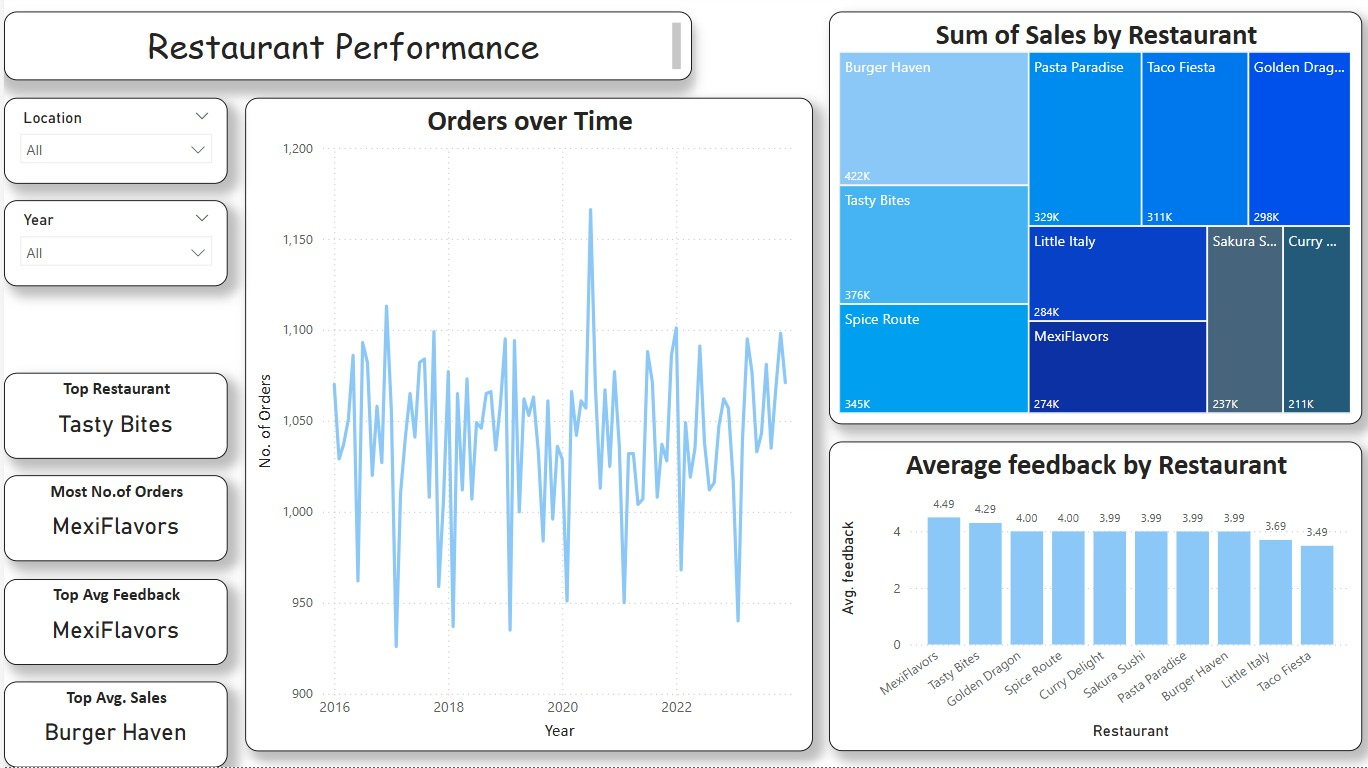

What the dashboard file says about the page in this screenshot:
{"tool":"powerbi","page":{"name":"Restaurant Performance","canvas":[1280,720],"ordinal":2},"visuals":[{"type":"textbox","box":[0,0,624,80],"z":0},{"type":"card","title":"Top Restaurant","fields":{"Values":["Food_Delivery final dataset.Top Restaurant"]},"box":[0,352,208,80],"z":1000},{"type":"card","title":"Most No.of Orders","fields":{"Values":["Min(Food_Delivery final dataset.Restaurant)"]},"box":[0,448,208,80],"z":2000},{"type":"card","title":"Top Avg Feedback","fields":{"Values":["Min(Food_Delivery final dataset.Restaurant)"]},"box":[0,544,208,80],"z":3000},{"type":"card","title":"Top Avg. Sales","fields":{"Values":["Min(Food_Delivery final dataset.Restaurant)"]},"box":[0,640,208,80],"z":4000},{"type":"lineChart","title":"Orders over Time","fields":{"Category":["Food_Delivery final dataset.OrderDate.Variation.Date Hierarchy.Year","Food_Delivery final dataset.OrderDate.Variation.Date Hierarchy.Month"],"Y":["CountNonNull(Food_Delivery final dataset.OrderID)"]},"box":[224,96,528,608],"z":5000},{"type":"clusteredColumnChart","title":"Average feedback by Restaurant","fields":{"Category":["Food_Delivery final dataset.Restaurant"],"Y":["Avg(Food_Delivery final dataset.SmartFeedbackScore)"]},"box":[768,416,496,288],"z":6000},{"type":"slicer","fields":{"Values":["Food_Delivery final dataset.Location"]},"box":[0,96,208,80],"z":7000},{"type":"slicer","fields":{"Values":["Food_Delivery final dataset.OrderDate.Variation.Date Hierarchy.Year"]},"box":[0,192,208,80],"z":8000},{"type":"treemap","title":"Sum of Sales by Restaurant","fields":{"Group":["Food_Delivery final dataset.Restaurant"],"Values":["Sum(Food_Delivery final dataset.FinalPrice)"]},"box":[768,16,496,384],"z":9000}]}

Visuals, with their boxes in screenshot pixels (x1, y1, x2, y2), scaled from the page's 1280x720 canvas onto the 1368x768 screenshot:
textbox: left=0, top=0, right=667, bottom=85
"Top Restaurant" card: left=0, top=375, right=222, bottom=461
"Most No.of Orders" card: left=0, top=478, right=222, bottom=563
"Top Avg Feedback" card: left=0, top=580, right=222, bottom=666
"Top Avg. Sales" card: left=0, top=683, right=222, bottom=767
"Orders over Time" lineChart: left=239, top=102, right=804, bottom=751
"Average feedback by Restaurant" clusteredColumnChart: left=821, top=444, right=1351, bottom=751
slicer - Food_Delivery final dataset.Location: left=0, top=102, right=222, bottom=188
slicer - Food_Delivery final dataset.OrderDate.Variation.Date Hierarchy.Year: left=0, top=205, right=222, bottom=290
"Sum of Sales by Restaurant" treemap: left=821, top=17, right=1351, bottom=427
